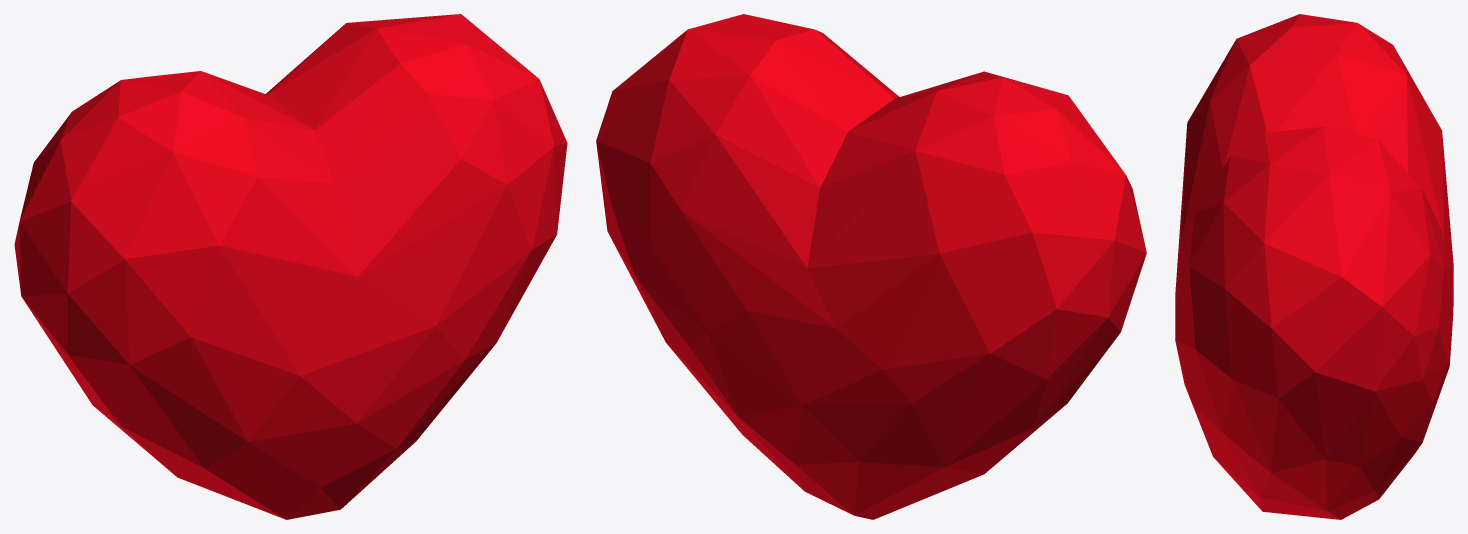
Rendered from heart-model-2.glb.
3 renders of one model, left to right at view 1: azimuth 30°, elevation 25°; view 2: azimuth 150°, elevation 25°; view 3: azimuth 270°, elevation 25°, orthographic. The views are drawn at different scales.
Visible parts, largest first — view 1: Love; view 2: Love; view 3: Love.
Part boxes in pixels (left/top/right/bottom): Love: left=14, top=14, right=567, bottom=519; Love: left=596, top=14, right=1146, bottom=519; Love: left=1175, top=14, right=1453, bottom=519.
Size of the model in its own units: 80.33 by 67.16 by 39.58.
